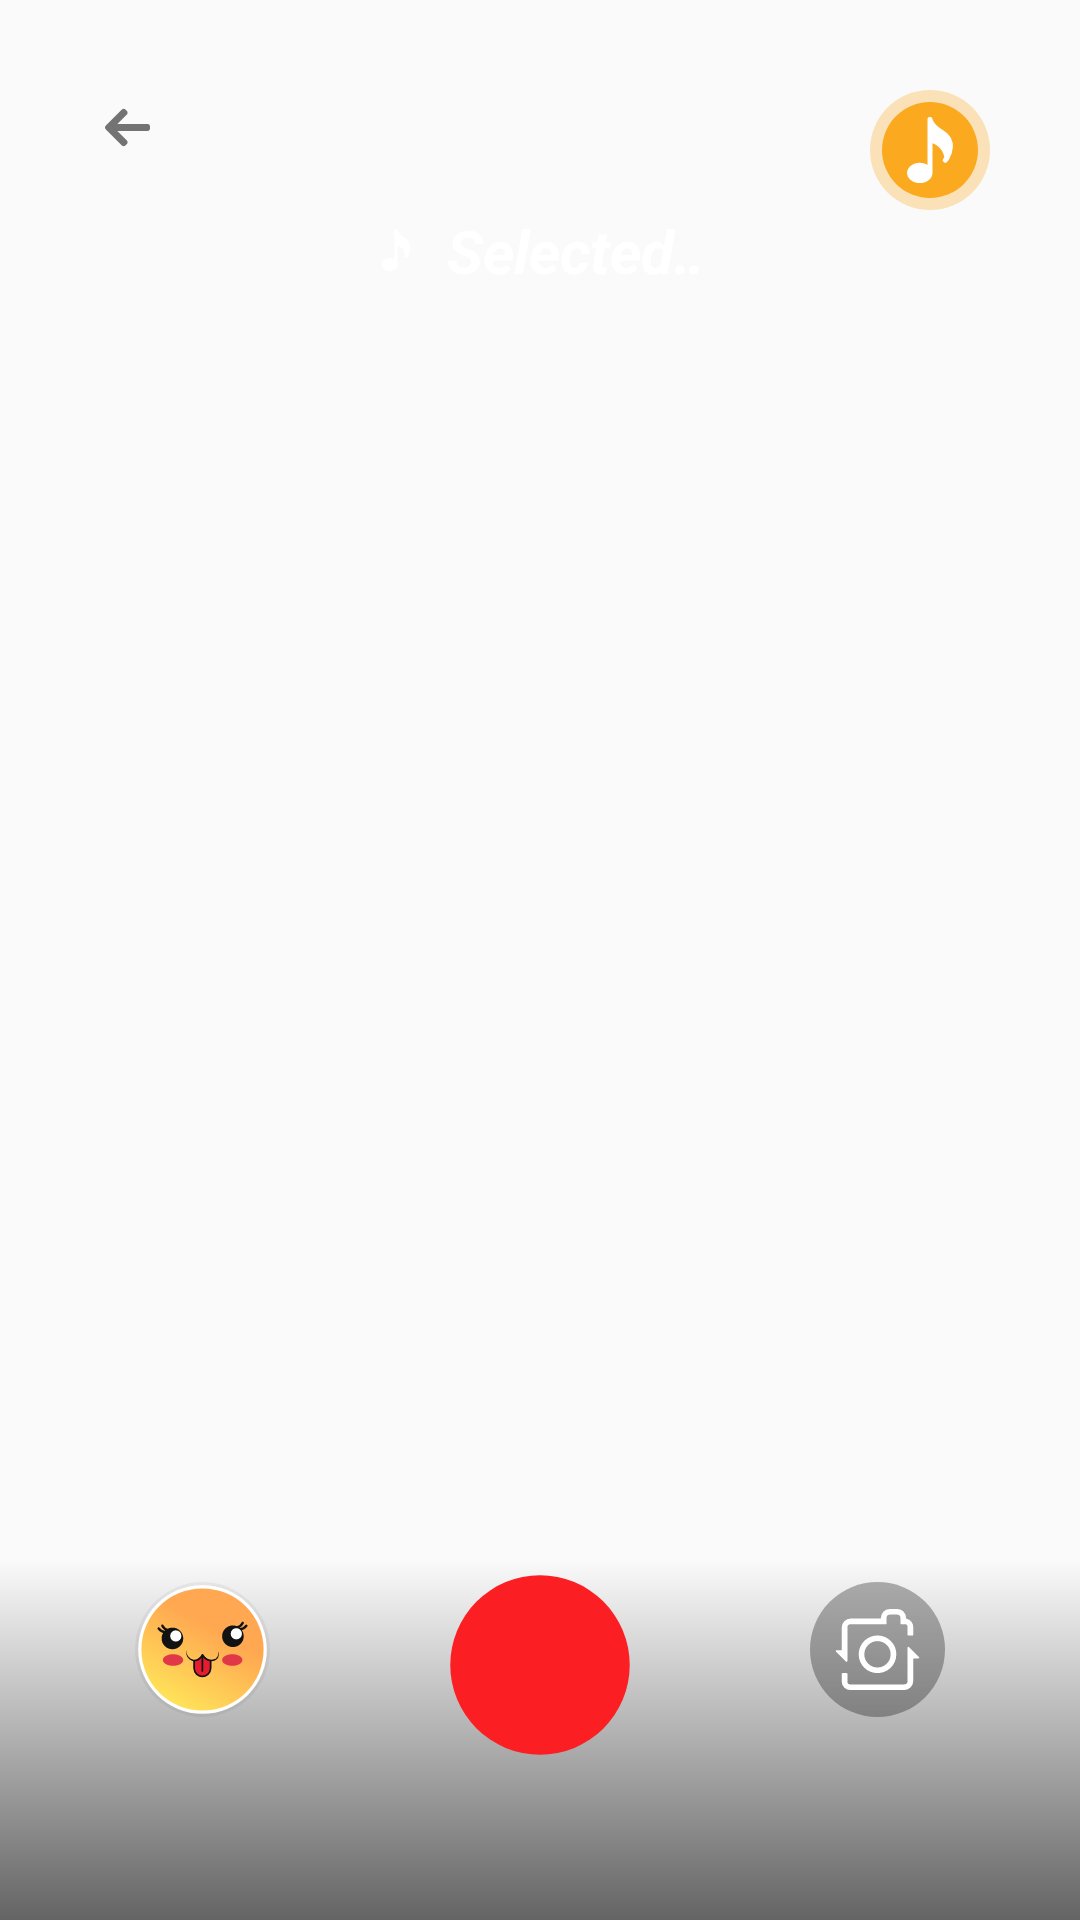

Icon click points for this 1080px x 1920px phone screenshot, format (x,y):
back: (127,127)
flip: (877,1649)
sound: (930,150)
